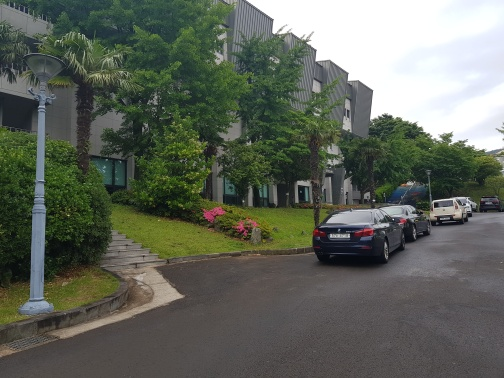Gym: (228, 6, 373, 206), (276, 27, 370, 144)
